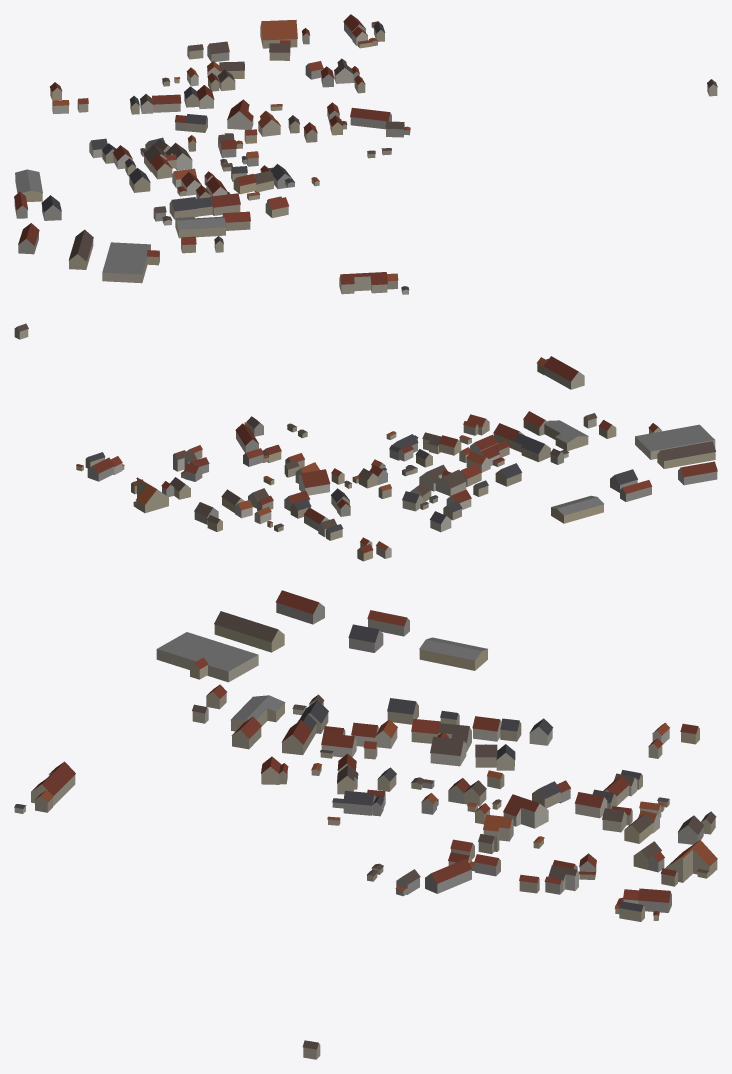
The picture shows the model from 3 angles, top to bottom: view 1: azimuth 30°, elevation 25°; view 2: azimuth 150°, elevation 25°; view 3: azimuth 270°, elevation 25°; orthographic projection. The views are drawn at different scales.
Parts seen in each view (by area): view 1: buildings; view 2: buildings; view 3: buildings.
Boxes of the visible parts, x1,y1,x2,y2 form: buildings: [14, 14, 717, 294]; buildings: [14, 323, 717, 561]; buildings: [14, 590, 717, 1059].
Bounding box in the file's own units: 515 × 30.74 × 355.
